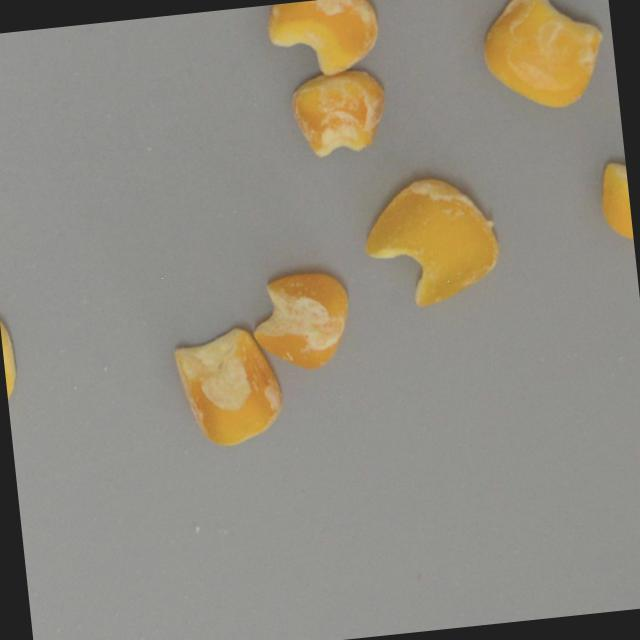dañado: (353, 162, 507, 315), (167, 319, 285, 453), (244, 261, 357, 377), (283, 61, 391, 164), (0, 297, 22, 413)
no_canjicado: (592, 156, 634, 249)
pelicula: (472, 0, 611, 119), (260, 0, 385, 85)
